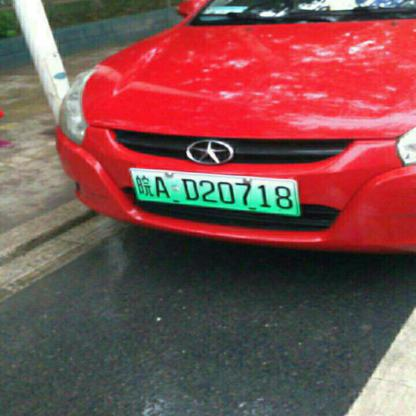lp: (128, 168, 299, 214)
